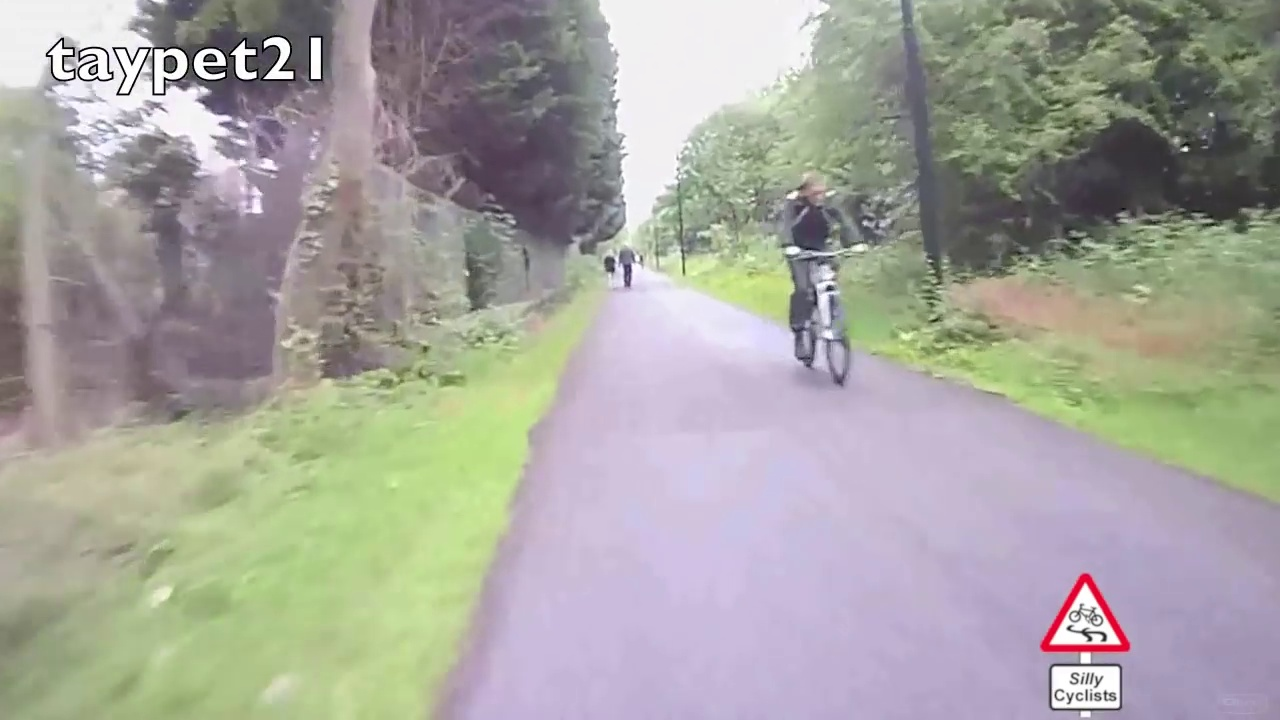cyclist_front: (782, 169, 871, 397)
